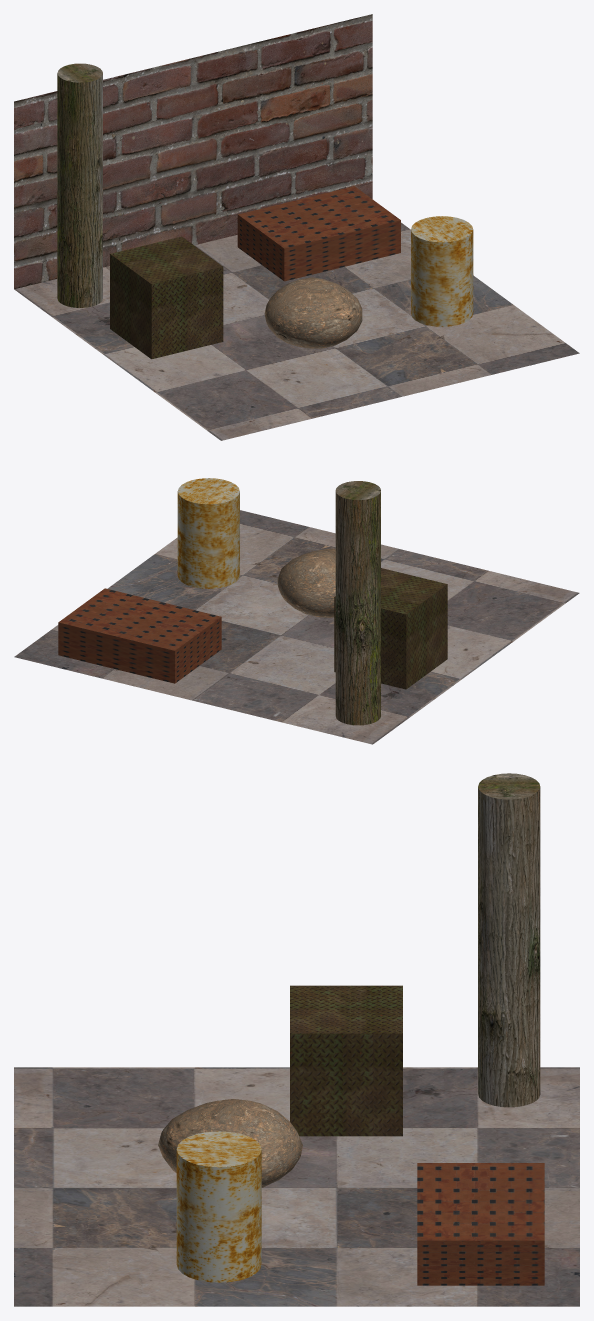
The picture shows the model from 3 angles, top to bottom: view 1: azimuth 30°, elevation 25°; view 2: azimuth 150°, elevation 25°; view 3: azimuth 270°, elevation 25°; orthographic projection. The views are drawn at different scales.
Parts seen in each view (by area): view 1: wall, floor, crate, tree trunk, plinth, barrel, boulder; view 2: floor, tree trunk, plinth, crate, barrel, boulder; view 3: floor, tree trunk, crate, plinth, barrel, boulder.
Part boxes in pixels (box(x1,y1,x2,y2)): wall: box(14, 14, 372, 289); floor: box(14, 222, 579, 440); crate: box(110, 236, 223, 359); tree trunk: box(57, 63, 102, 307); plinth: box(237, 186, 400, 281); barrel: box(411, 216, 473, 326); boulder: box(264, 277, 362, 348); floor: box(14, 510, 579, 744); tree trunk: box(335, 481, 380, 725); plinth: box(58, 588, 221, 683); crate: box(334, 568, 447, 689); barrel: box(177, 478, 239, 588); boulder: box(277, 548, 335, 617); floor: box(14, 1067, 579, 1306); tree trunk: box(478, 773, 540, 1107); crate: box(290, 985, 402, 1136); plinth: box(417, 1163, 544, 1285); barrel: box(176, 1131, 261, 1282); boulder: box(158, 1099, 302, 1187).
Size of the model in its own units: 4 by 2.41 by 4.
7 materials, 7 textured.
